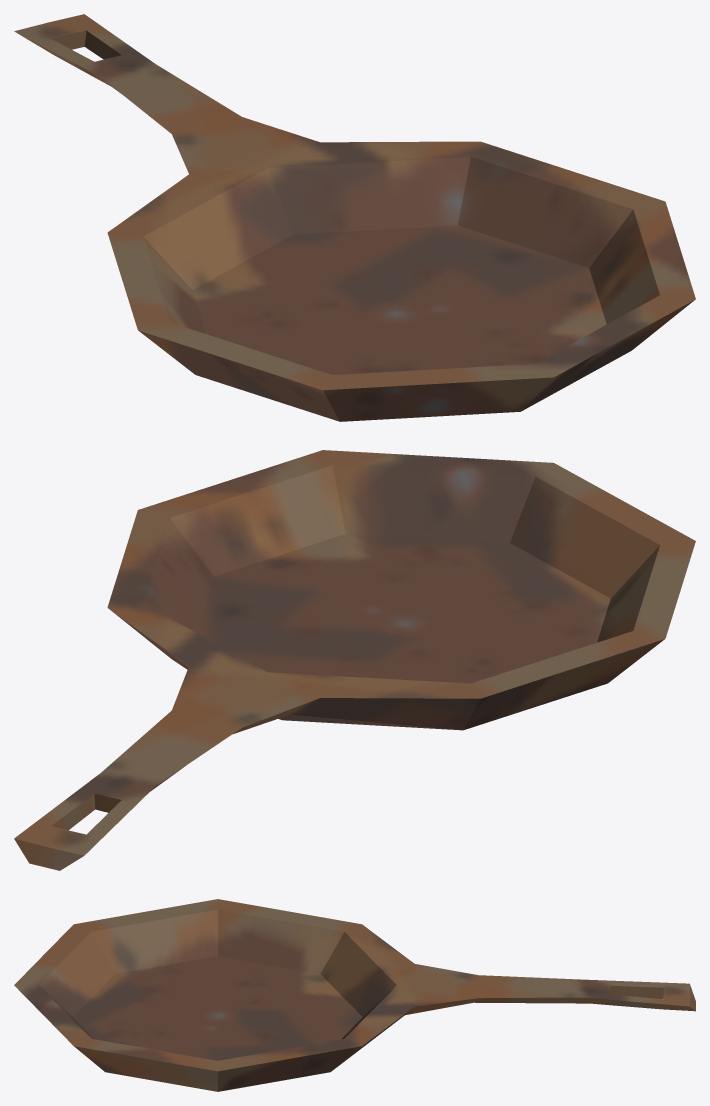
Rendered from SM_Item_Frypan_02.obj.
3 renders of one model, top to bottom at view 1: azimuth 30°, elevation 25°; view 2: azimuth 150°, elevation 25°; view 3: azimuth 270°, elevation 25°, orthographic. The views are drawn at different scales.
Parts seen in each view (by area): view 1: SM_Item_Frypan_02_0; view 2: SM_Item_Frypan_02_0; view 3: SM_Item_Frypan_02_0.
Boxes of the visible parts, x1,y1,x2,y2 form: SM_Item_Frypan_02_0: (14, 14, 695, 421); SM_Item_Frypan_02_0: (14, 450, 695, 870); SM_Item_Frypan_02_0: (14, 899, 695, 1091).
Size of the model in its own units: 0.5074 by 0.054 by 0.8485.
1 material, 1 textured.
